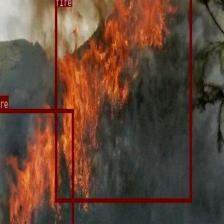fire: (55, 0, 191, 202), (0, 108, 73, 224)
